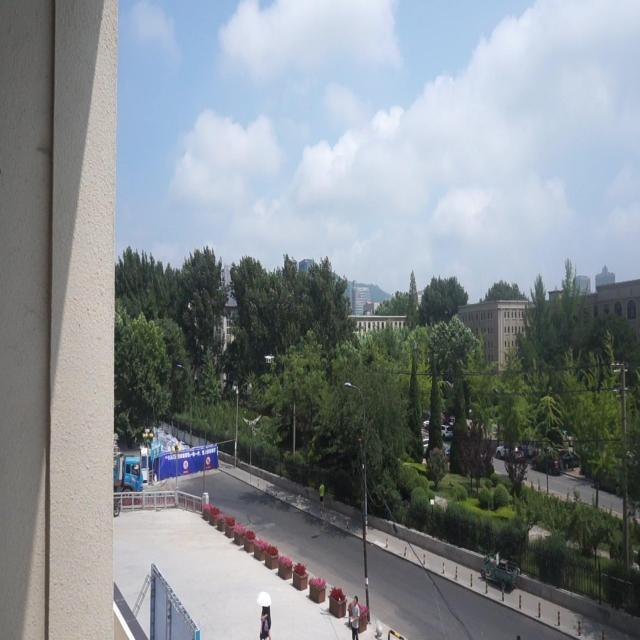drone: (262, 346, 276, 372)
